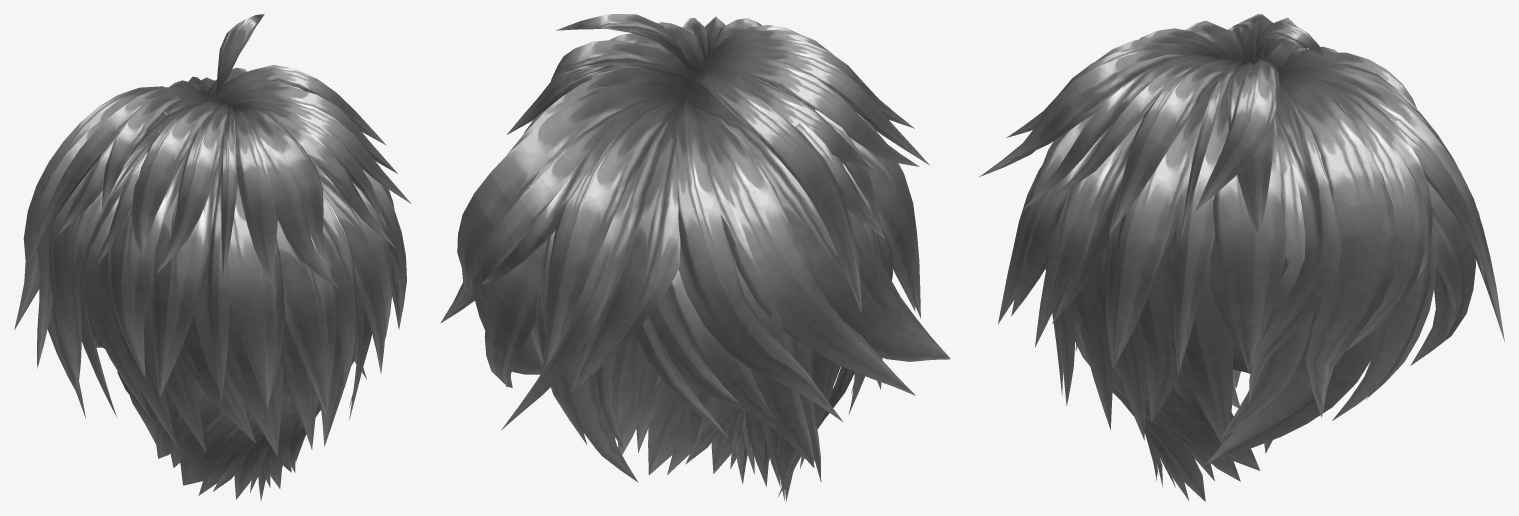
Rendered from hair-feminine-layered.glb.
The picture shows the model from 3 angles, left to right: view 1: azimuth 30°, elevation 25°; view 2: azimuth 150°, elevation 25°; view 3: azimuth 270°, elevation 25°; orthographic projection. The views are drawn at different scales.
Visible parts, largest first — view 1: hair-layered; view 2: hair-layered; view 3: hair-layered.
Boxes of the visible parts, x1,y1,x2,y2 form: hair-layered: (14,14,411,500); hair-layered: (440,14,950,501); hair-layered: (979,14,1504,501).
Size of the model in its own units: 0.2826 by 0.3172 by 0.3149.
1 material, 1 textured.
